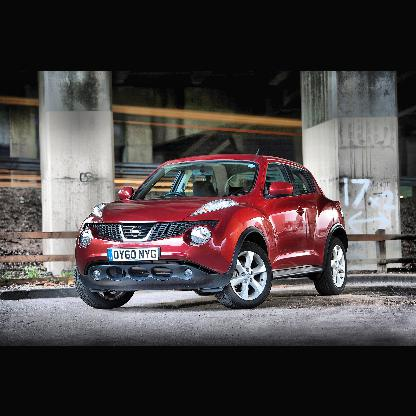Nissan Juke Hatchback 2012: (74, 153, 351, 310)
